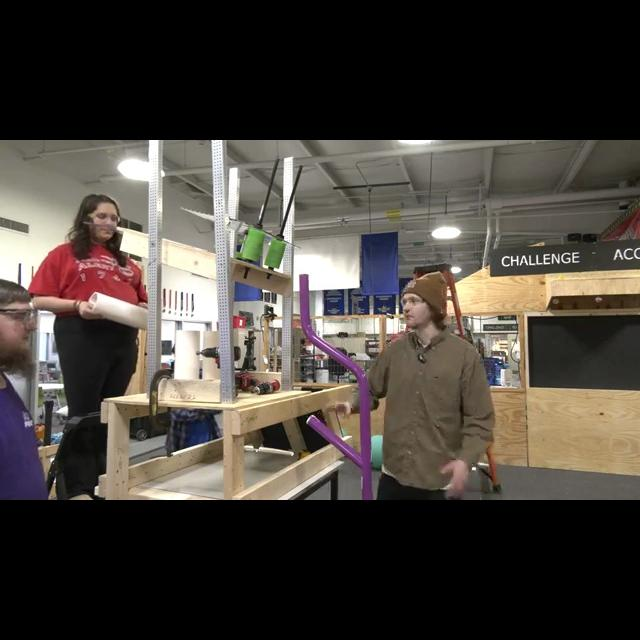CORAL: (86, 290, 148, 330), (174, 329, 200, 378), (204, 331, 220, 381)
